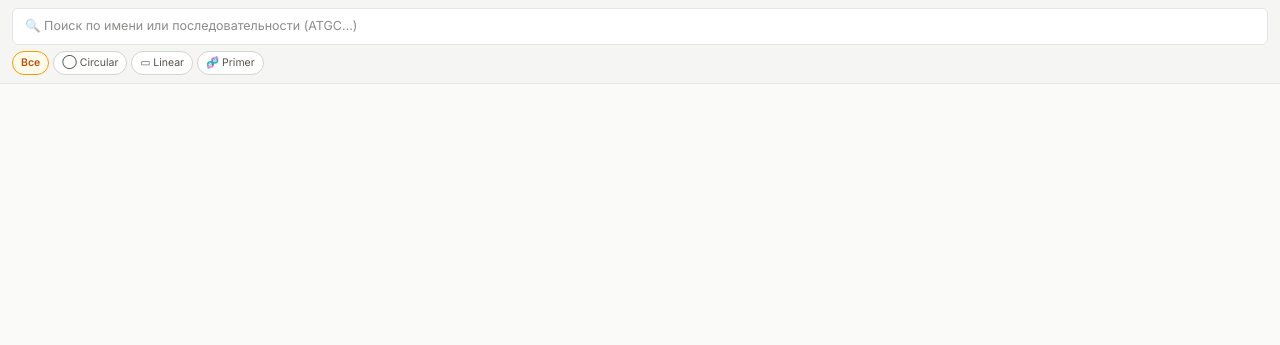
LibrarySearchBar — dropdown mode (canvas) › typing highlights the match with <mark>
Type "pUC" into the search field with test id "canvas-library-search-bar-input" at (640, 26), box left=12, top=8, right=1268, bottom=45
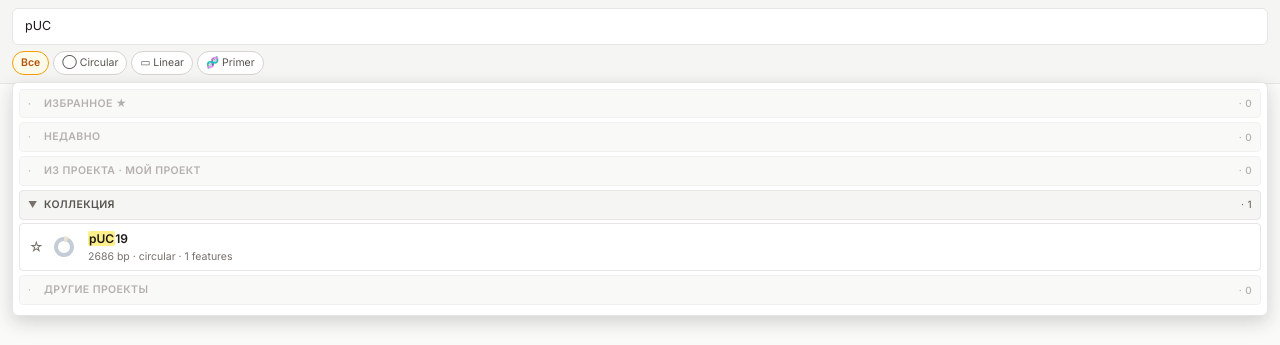
Expected: the text "pUC" is shown, left=88, top=230, right=115, bottom=246
